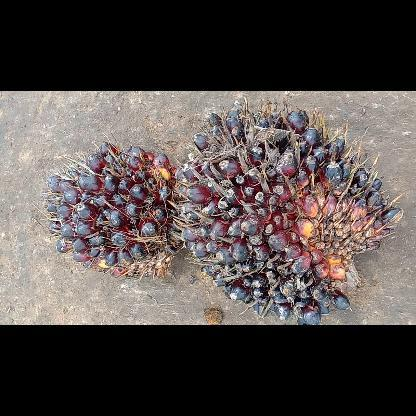TBS mentah: (179, 96, 405, 324), (45, 143, 179, 279)
